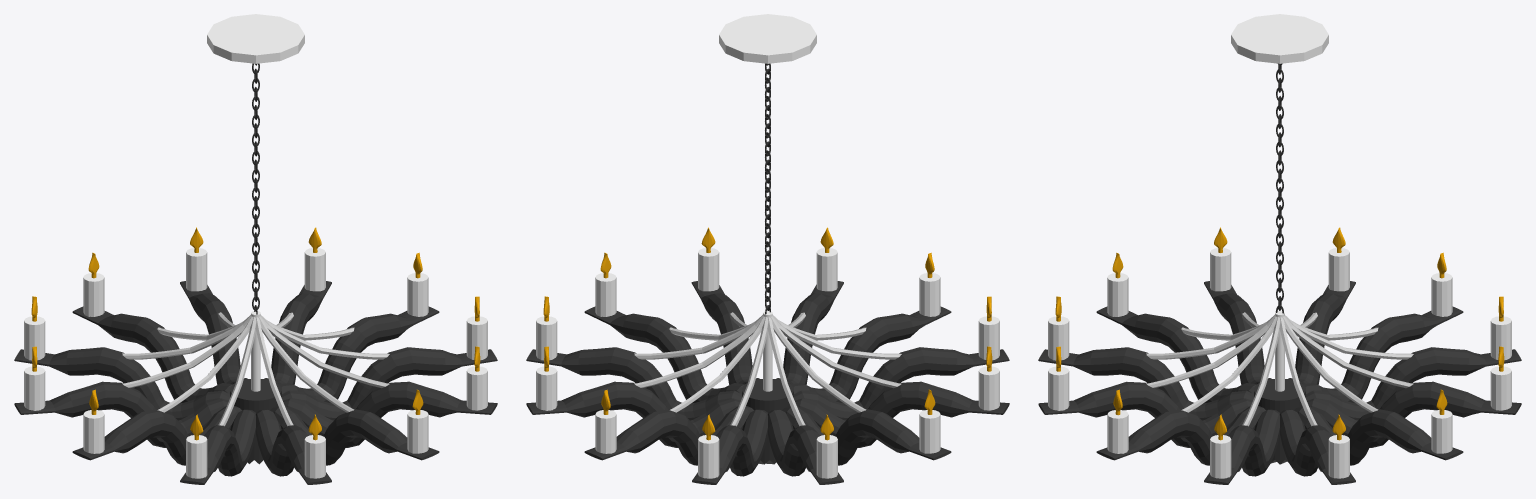
The model's file is Lustre.fbx.
3 renders of one model, left to right at view 1: azimuth 30°, elevation 25°; view 2: azimuth 150°, elevation 25°; view 3: azimuth 270°, elevation 25°, orthographic.
Visible parts, largest first — view 1: Cylinder, Torus.001, Cylinder.001, Torus; view 2: Cylinder, Torus.001, Cylinder.001, Torus; view 3: Cylinder, Torus.001, Cylinder.001, Torus.
Part boxes in pixels (box(x1,y1,x2,y2)): Cylinder: box(14, 227, 497, 484); Torus.001: box(207, 14, 304, 63); Cylinder.001: box(230, 305, 281, 464); Torus: box(252, 63, 259, 310); Cylinder: box(526, 227, 1009, 484); Torus.001: box(719, 14, 816, 63); Cylinder.001: box(742, 305, 793, 464); Torus: box(765, 63, 770, 310); Cylinder: box(1038, 227, 1521, 484); Torus.001: box(1231, 14, 1328, 63); Cylinder.001: box(1254, 305, 1305, 464); Torus: box(1276, 63, 1283, 310).
Bounding box in the file's own units: 234 × 224 × 234.
